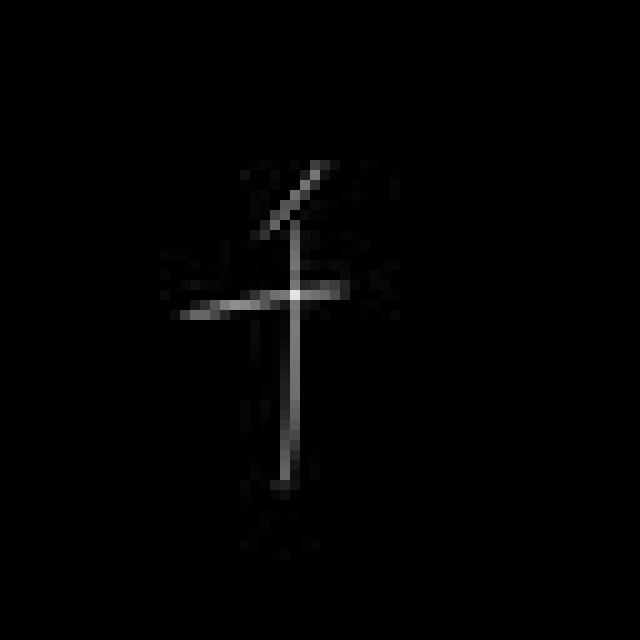1000 -a thousand-: (172, 157, 354, 478)
